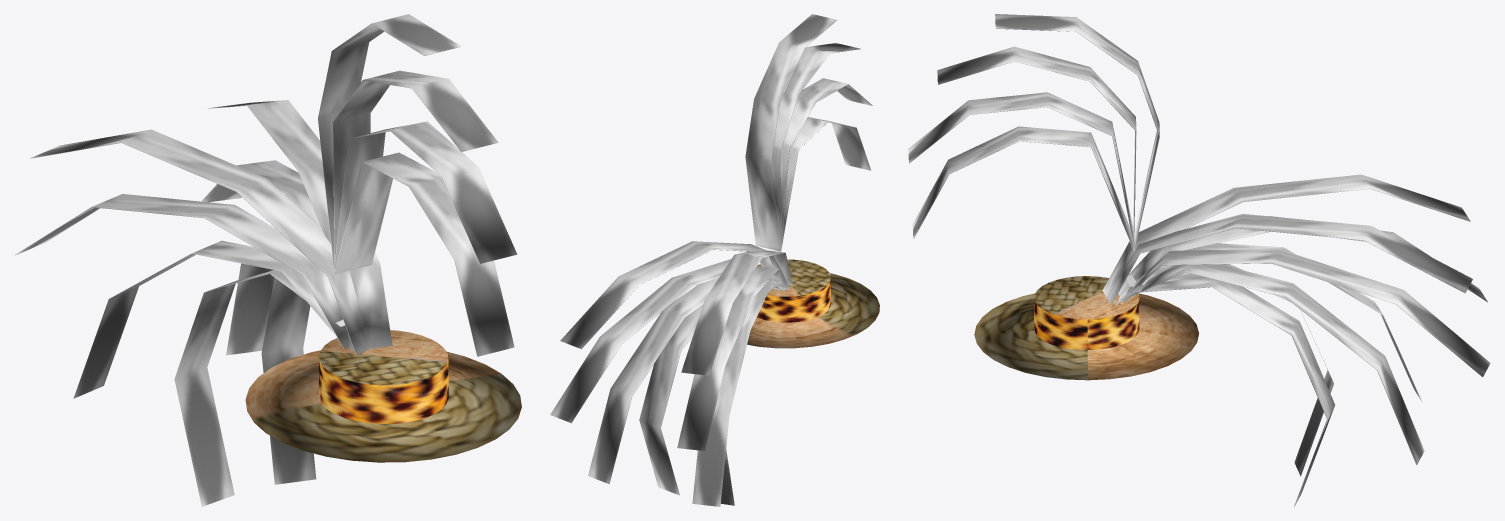
The model's file is helmet_com_1.dae.
3 views of the same model, side by side, from view 1: azimuth 30°, elevation 25°; view 2: azimuth 150°, elevation 25°; view 3: azimuth 270°, elevation 25° (orthographic). The views are drawn at different scales.
Visible parts, largest first — view 1: helmet_com_1; view 2: helmet_com_1; view 3: helmet_com_1.
Part boxes in pixels (x1,y1,x2,y2): helmet_com_1: (14, 14, 521, 506); helmet_com_1: (550, 14, 879, 506); helmet_com_1: (908, 14, 1490, 506).
Bounding box in the file's own units: 0.9999 × 2.62 × 2.29.
